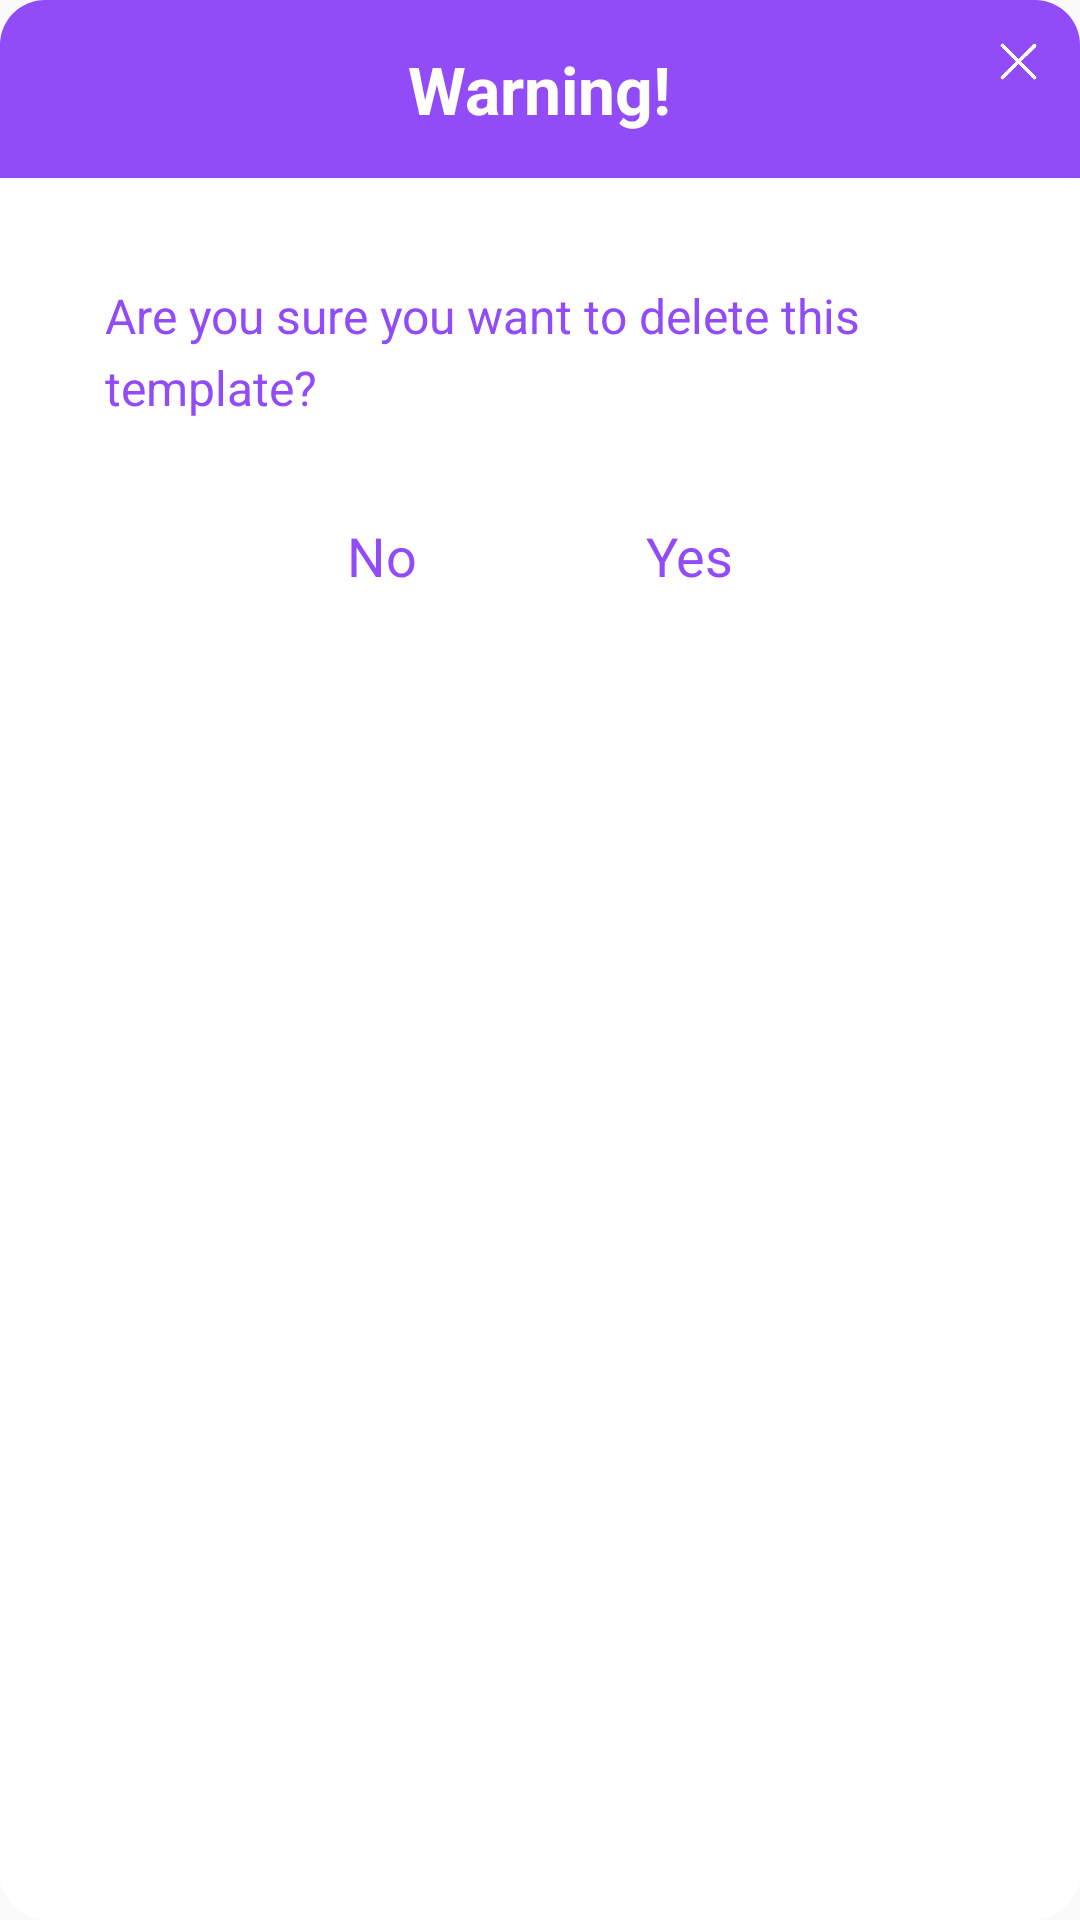

Where to tap for icons on this 1080x1920 app screen, as [x,y]:
cancelicon: [1018,61]
